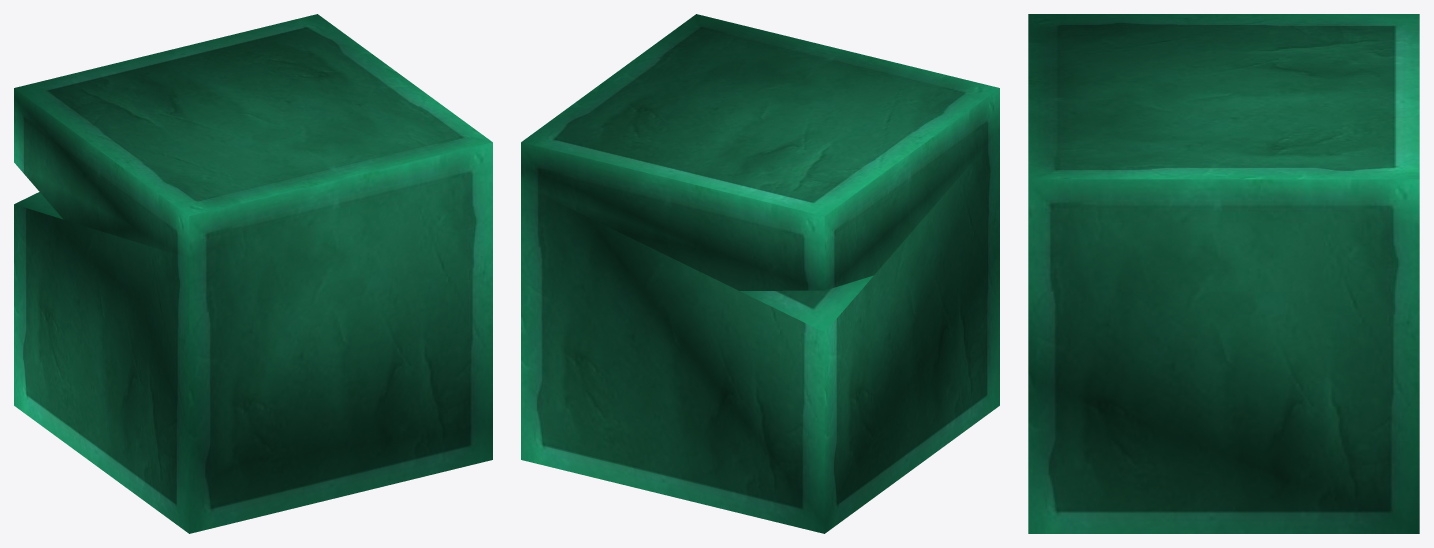
File: Frogames_DP_block1.FBX
3 renders of one model, left to right at view 1: azimuth 30°, elevation 25°; view 2: azimuth 150°, elevation 25°; view 3: azimuth 270°, elevation 25°, orthographic. The views are drawn at different scales.
Parts seen in each view (by area): view 1: block1; view 2: block1; view 3: block1.
Part boxes in pixels (left/top/right/bottom): block1: left=14, top=14, right=492, bottom=533; block1: left=521, top=14, right=999, bottom=533; block1: left=1028, top=14, right=1419, bottom=533.
Size of the model in its own units: 4 by 4 by 4.
